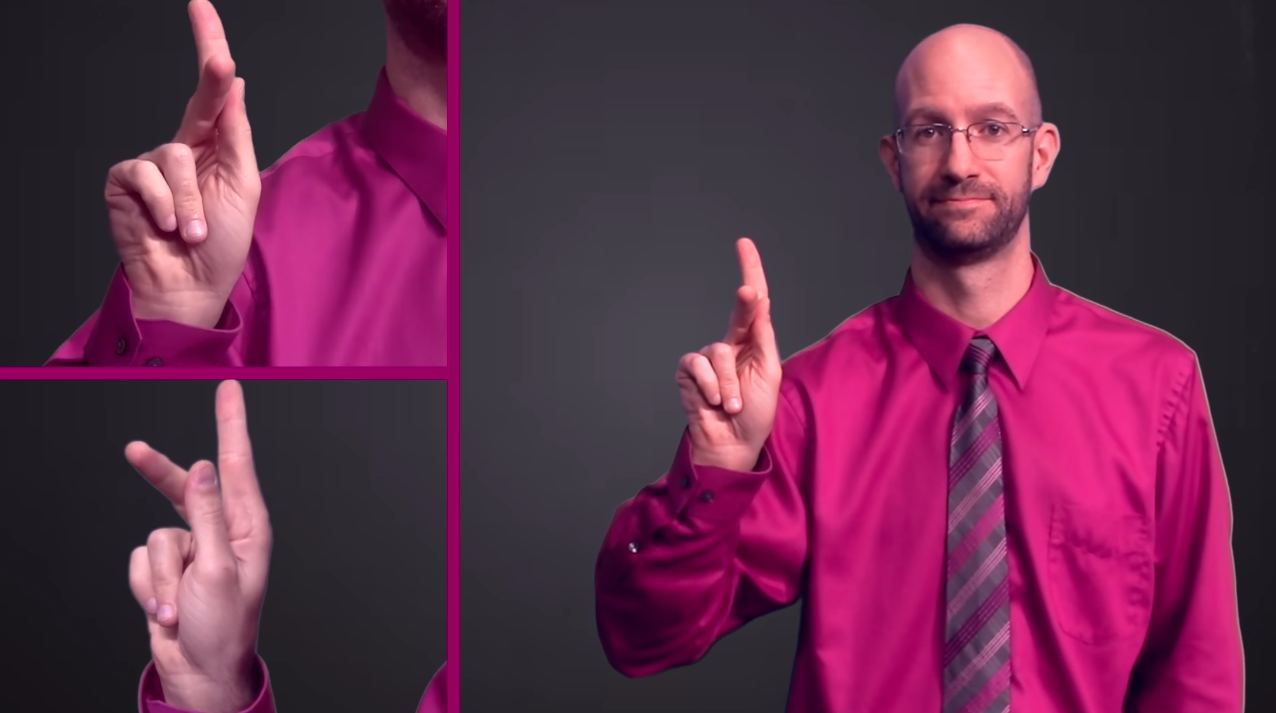k: (84, 380, 313, 713), (73, 1, 291, 333), (663, 232, 797, 479)
